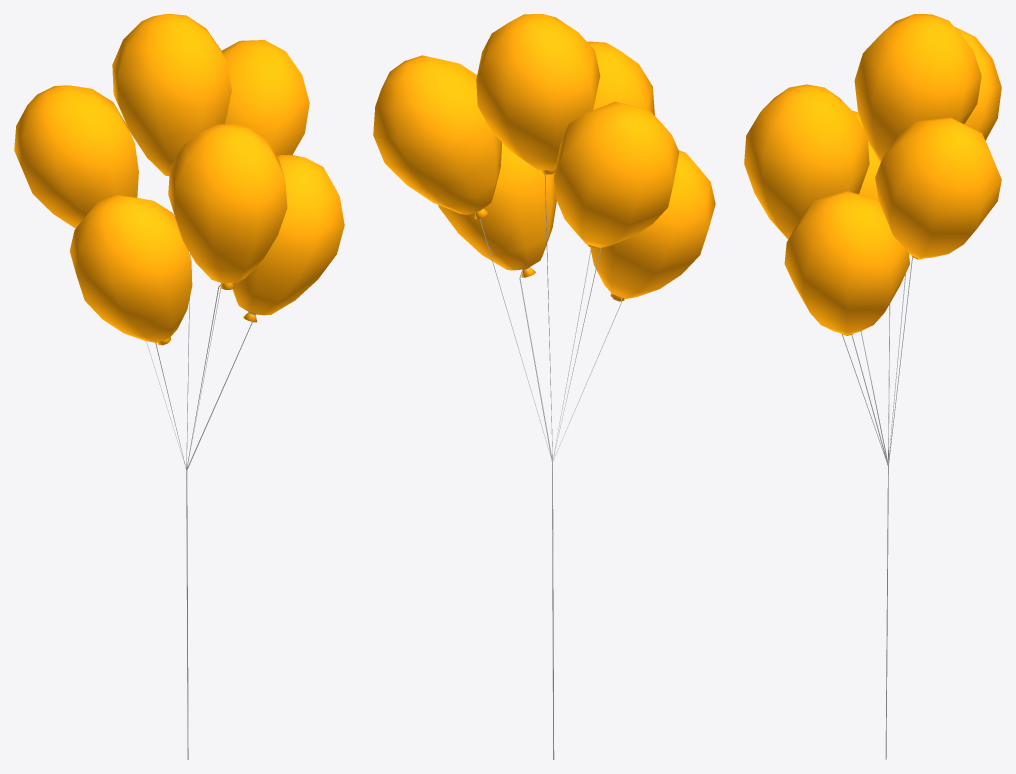
Rendered from BalloonBunchNeonOrange.glb.
3 views of the same model, side by side, from view 1: azimuth 30°, elevation 25°; view 2: azimuth 150°, elevation 25°; view 3: azimuth 270°, elevation 25° (orthographic). The views are drawn at different scales.
Parts seen in each view (by area): view 1: BalloonBunchNeonOrange; view 2: BalloonBunchNeonOrange; view 3: BalloonBunchNeonOrange.
Boxes of the visible parts, x1,y1,x2,y2 form: BalloonBunchNeonOrange: [14, 14, 344, 759]; BalloonBunchNeonOrange: [373, 14, 715, 759]; BalloonBunchNeonOrange: [744, 14, 1001, 759].
Bounding box in the file's own units: 1.32 × 3.26 × 1.03.
1 material, 1 textured.
